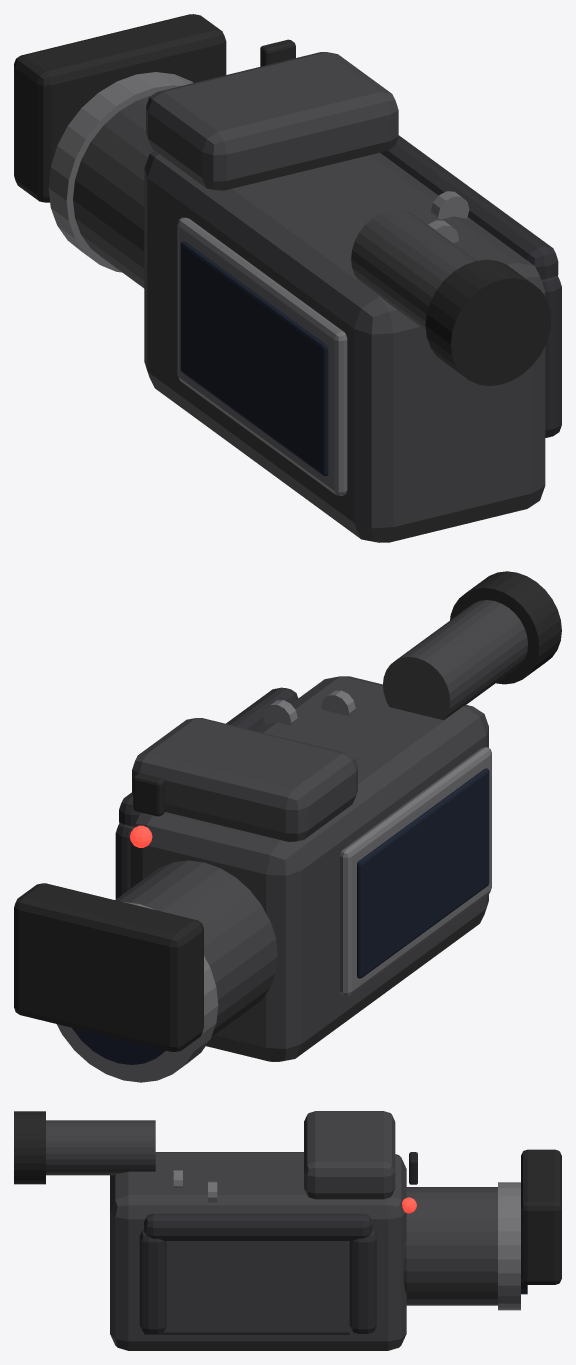
The model's file is camcorder.glb.
3 renders of one model, top to bottom at view 1: azimuth 30°, elevation 25°; view 2: azimuth 150°, elevation 25°; view 3: azimuth 270°, elevation 25°, orthographic. The views are drawn at different scales.
Visible parts, largest first — view 1: Cube, Cube.001, Cube.003, Cube.004, Cylinder.004, Cylinder, Cube.002, Cylinder.003, Cylinder.001, Cube.005, Cube.007, Cylinder.006 (+1 smaller); view 2: Cube, Cube.004, Cube.001, Cube.003, Cylinder, Cylinder.003, Cube.002, Cylinder.004, Cylinder.001, Cube.005, Cylinder.002, Cube.009 (+3 smaller); view 3: Cube, Cylinder, Cube.001, Cube.005, Cylinder.003, Cube.004, Cylinder.001, Cube.006, Cube.007, Cylinder.004, Cube.008.
Boxes of the visible parts, x1,y1,x2,y2 form: Cube: [144, 150, 545, 542]; Cube.001: [146, 52, 398, 190]; Cube.003: [180, 241, 328, 475]; Cube.004: [14, 14, 226, 202]; Cylinder.004: [425, 259, 551, 385]; Cylinder: [73, 95, 154, 288]; Cube.002: [177, 217, 347, 495]; Cylinder.003: [351, 209, 476, 330]; Cylinder.001: [48, 72, 193, 272]; Cube.005: [380, 135, 558, 279]; Cube.007: [541, 275, 561, 437]; Cylinder.006: [431, 191, 469, 219]; Cube: [130, 676, 488, 1061]; Cube.004: [14, 883, 203, 1051]; Cube.001: [132, 718, 357, 841]; Cube.003: [357, 768, 489, 978]; Cylinder: [115, 860, 278, 1037]; Cylinder.003: [383, 600, 527, 720]; Cube.002: [340, 747, 491, 996]; Cylinder.004: [450, 571, 561, 684]; Cylinder.001: [56, 902, 218, 1082]; Cube.005: [119, 687, 298, 826]; Cylinder.002: [72, 1028, 165, 1064]; Cube.009: [133, 773, 164, 816]; Cube: [110, 1152, 406, 1350]; Cylinder: [403, 1187, 497, 1305]; Cube.001: [304, 1111, 395, 1199]; Cube.005: [144, 1213, 372, 1240]; Cylinder.003: [46, 1120, 155, 1175]; Cube.004: [521, 1149, 561, 1284]; Cylinder.001: [498, 1182, 520, 1310]; Cube.006: [349, 1229, 376, 1333]; Cube.007: [139, 1229, 166, 1333]; Cylinder.004: [14, 1111, 45, 1184]; Cube.008: [144, 1332, 349, 1334].
Size of the model in its own units: 0.0765 by 0.098 by 0.24.
